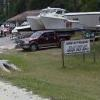Boat: (25, 2, 86, 34)
